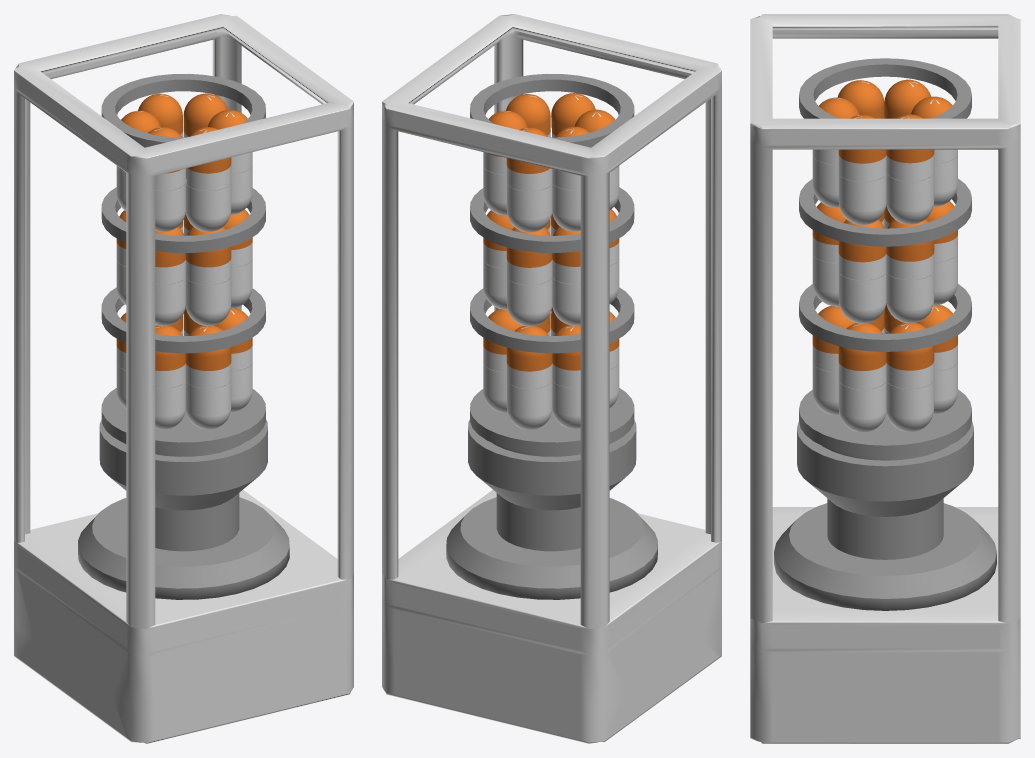
The model's file is Bioreactor.fbx.
3 views of the same model, side by side, from view 1: azimuth 30°, elevation 25°; view 2: azimuth 150°, elevation 25°; view 3: azimuth 270°, elevation 25° (orthographic). The views are drawn at different scales.
Parts seen in each view (by area): view 1: Plane.001; view 2: Plane.001; view 3: Plane.001.
Boxes of the visible parts, left/top/right/bottom form: Plane.001: left=14, top=14, right=353, bottom=743; Plane.001: left=382, top=14, right=721, bottom=743; Plane.001: left=750, top=14, right=1020, bottom=743.
Bounding box in the file's own units: 3.15 × 7.93 × 3.15.
